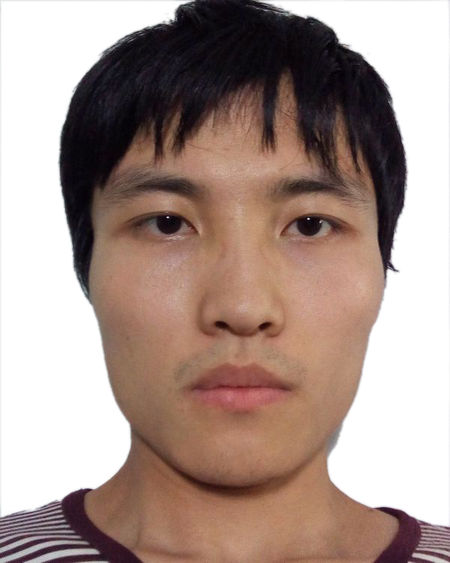unmask: (89, 135, 384, 471)
